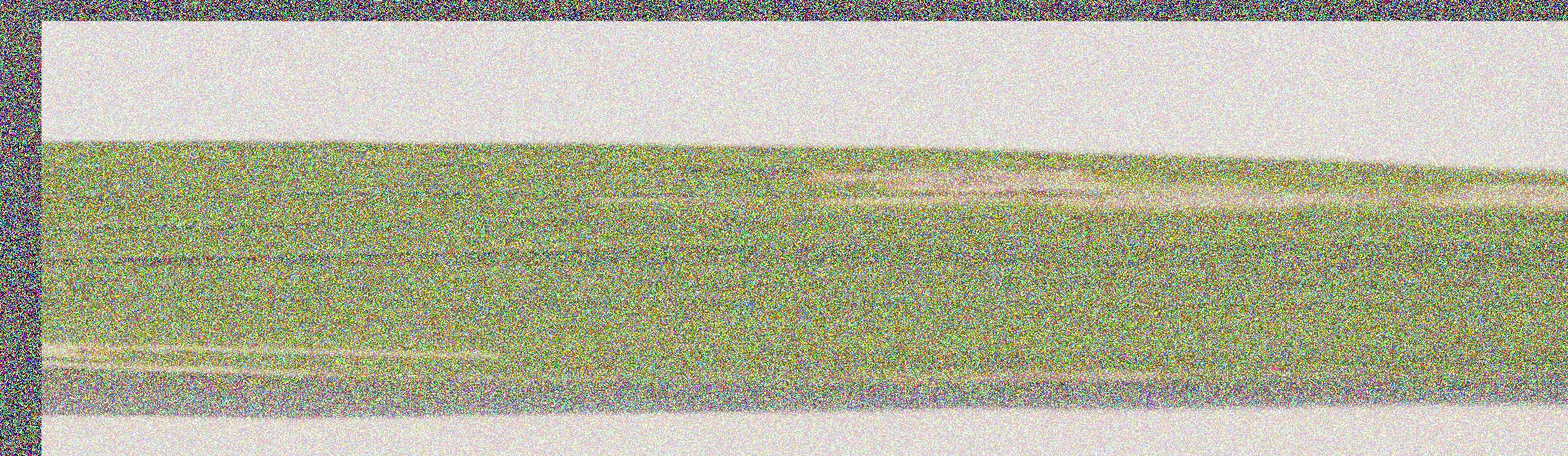Leaf_Blast: (500, 142, 1568, 236), (42, 315, 532, 439)
